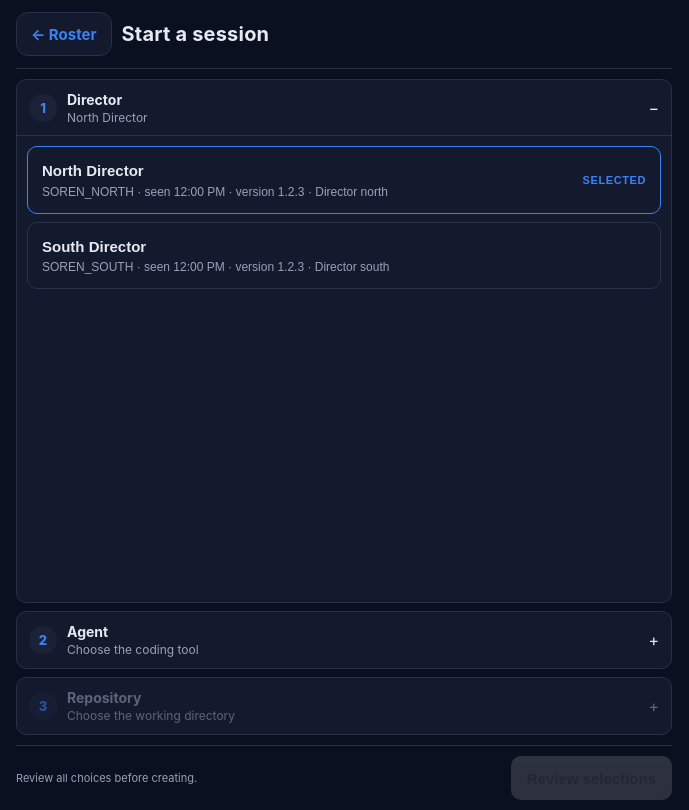
mobile new session › shows an empty agent list explicitly and does not enable review
Click the button with aria-label "Select Director North Director" at (93, 170), box [28,147,660,212]
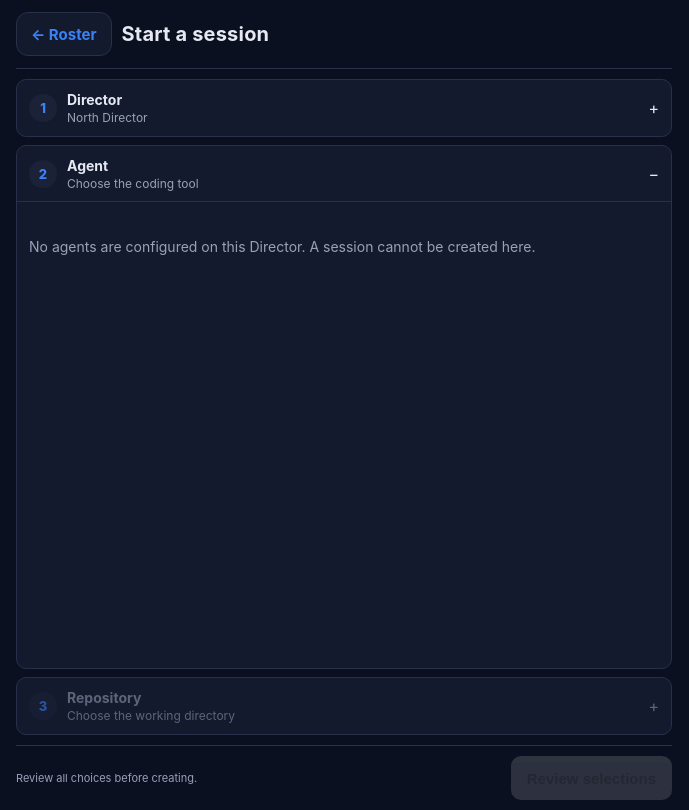
Expected: the button "Review selections" is disabled, [511,756,672,800]
Now the text "No agents are configured on this Director" is shown, box [29,238,536,255]
